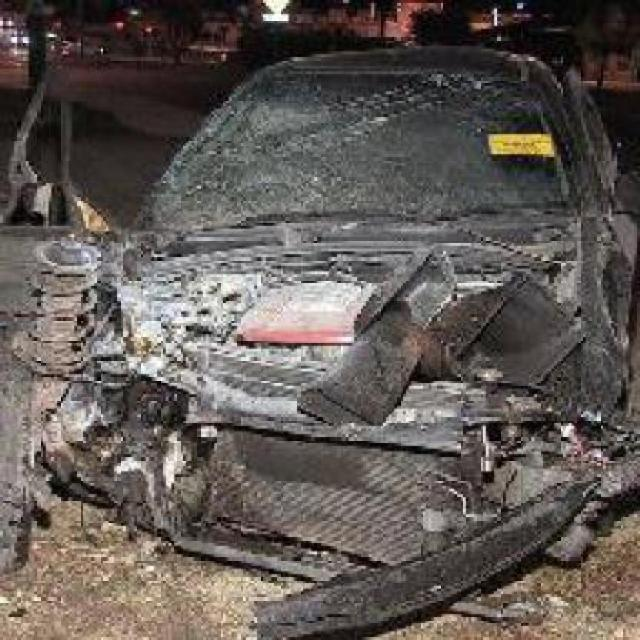damaged-front-bumper: (100, 381, 583, 554)
damaged-hood: (137, 226, 565, 348)
damaged-windscreen: (156, 74, 567, 222)
